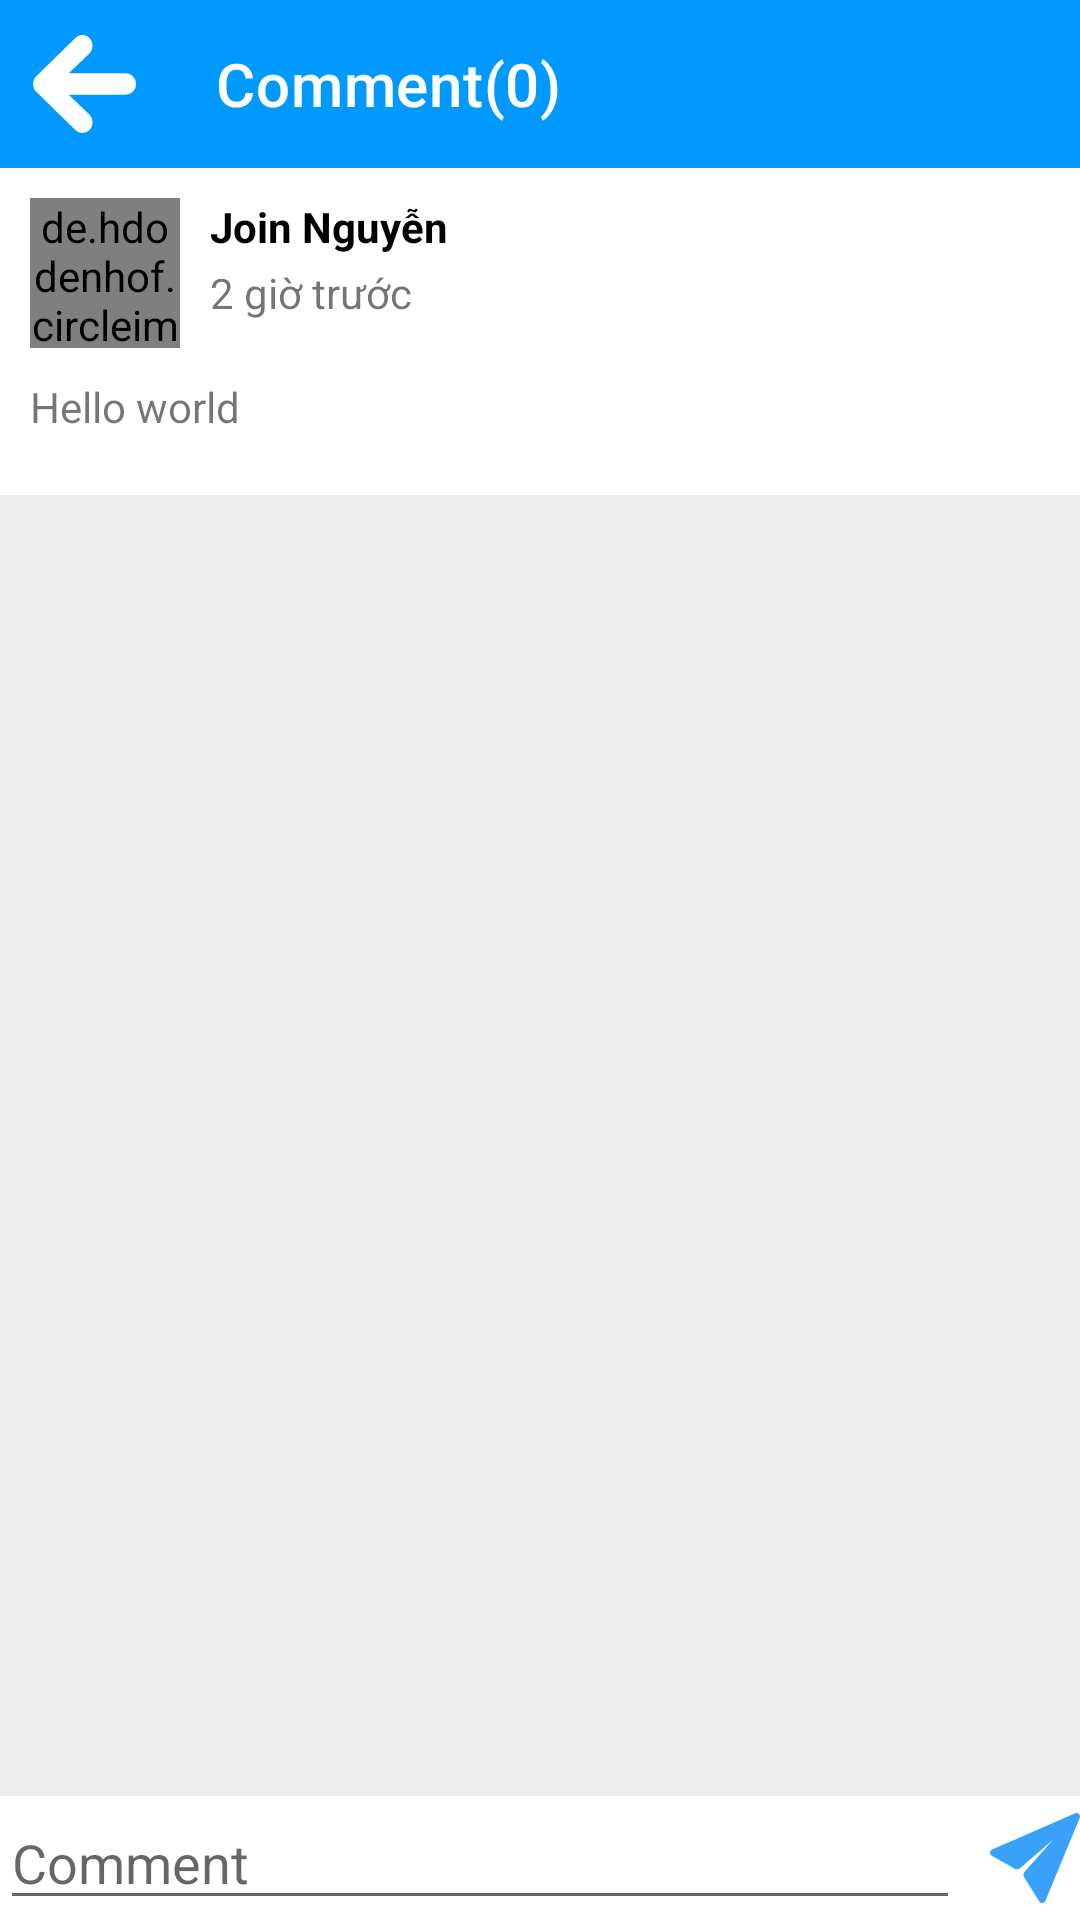

Where icons sit on this 1080x1920 app screen, as bbox(x1, y1, x2, y2):
send: bbox(990, 1813, 1080, 1903)
